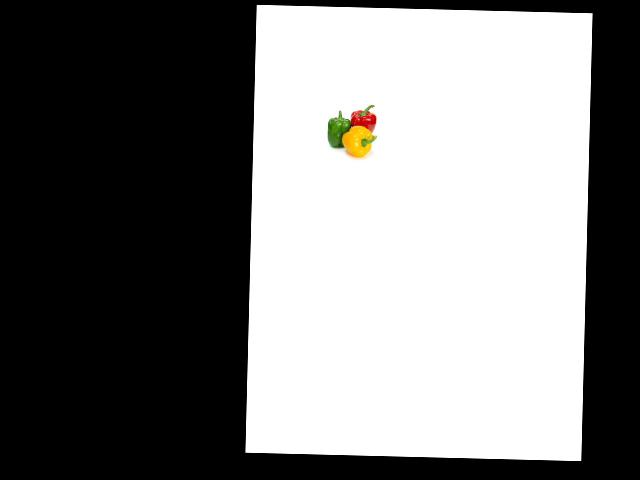bell_pepper: (346, 101, 381, 137)
